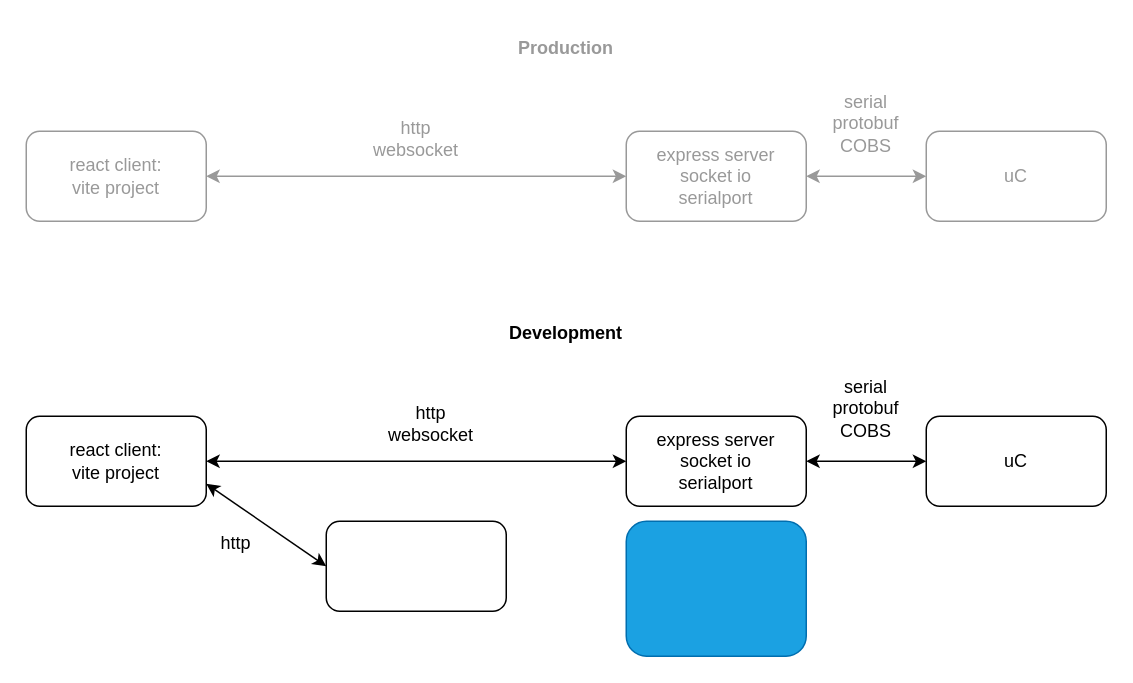
This 1133x683 diagram has some shape labels left out. Here are the shapes that lost their labels. From the top down, the centre of each, then its label:
At point 415,565: "Vite dev server: port 3000".
At point 715,588: "serialport connection meta info - port path - protobuf file path data".
